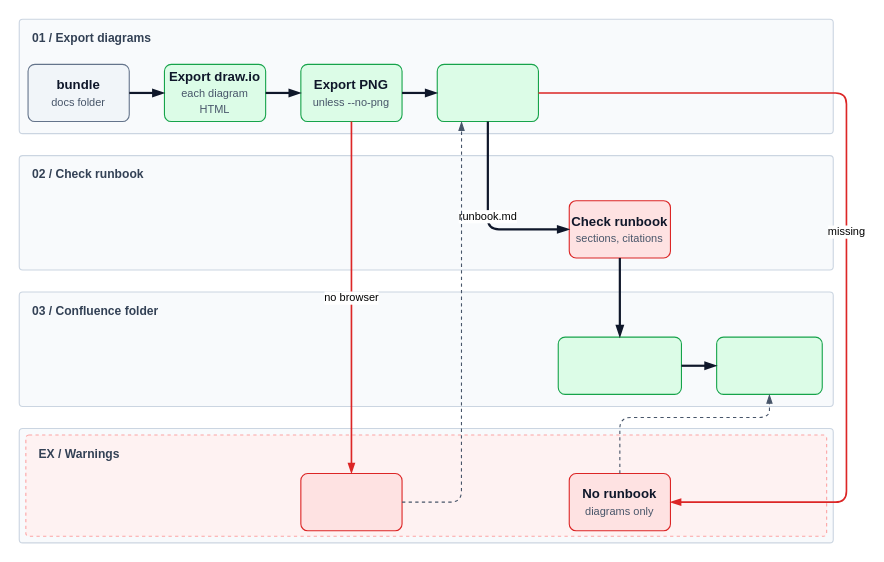
Some shapes in this 884 by 562 pixel diagram are drawn without their labels. Here are the shapes that lost their labels. From the top down, the centre of each, then its label:
At [487,92]: "Tidy receipts into .checks/".
At [619,365]: "Write confluence/ page + attachments".
At [769,365]: "Report and exit 0 if runbook ok".
At [351,501]: "PNG skipped warning only".
